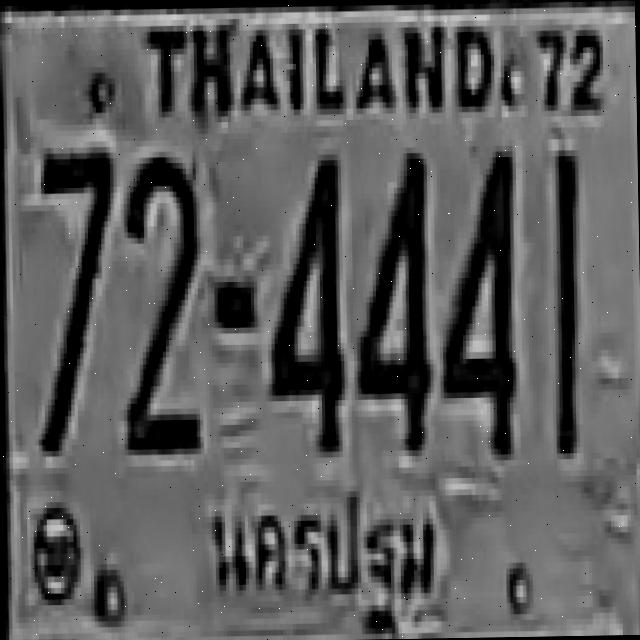1: (550, 147, 582, 456)
2: (119, 151, 200, 449)
4: (436, 146, 516, 456), (352, 144, 429, 448), (264, 148, 342, 446)
7: (33, 144, 114, 448)
NakhonPathom: (206, 477, 439, 637)
